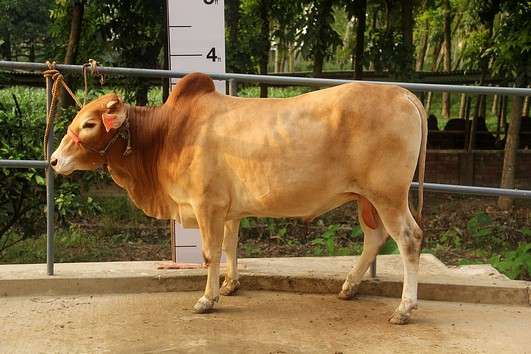cow: (44, 68, 433, 332)
